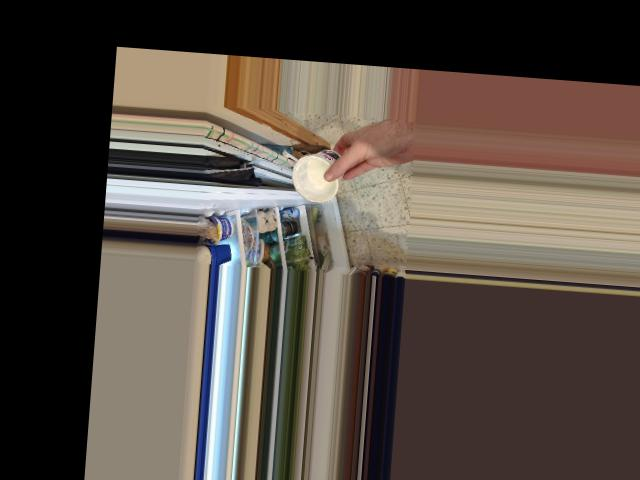cotage: (286, 142, 346, 204)
